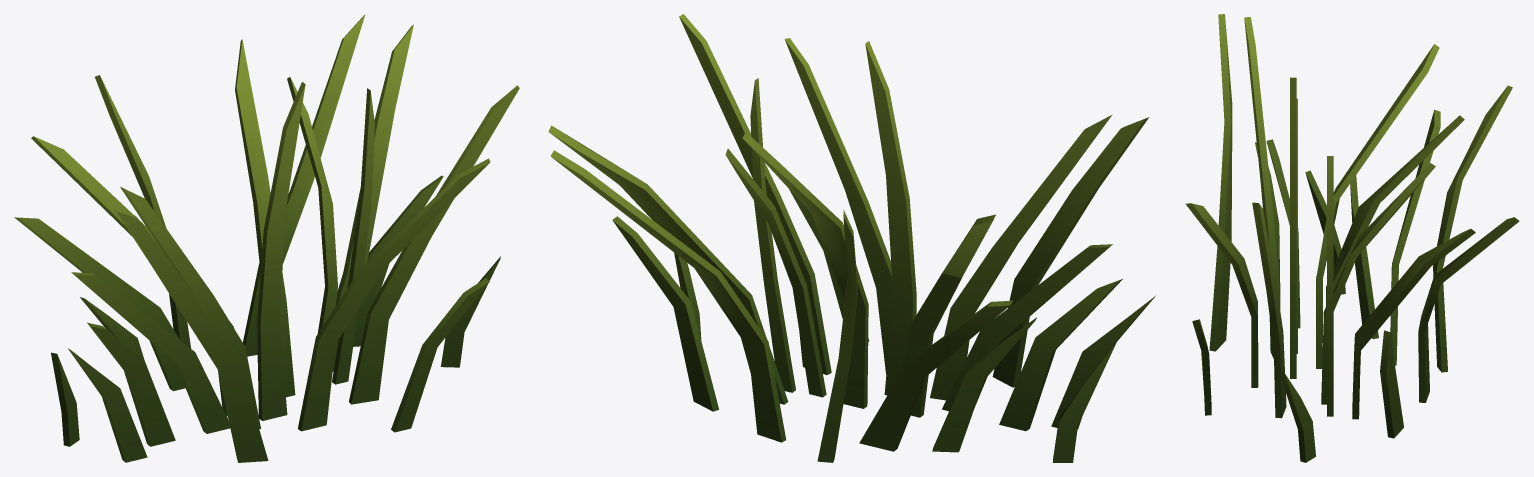
Rendered from Grass_Large_Extruded.glb.
The picture shows the model from 3 angles, left to right: view 1: azimuth 30°, elevation 25°; view 2: azimuth 150°, elevation 25°; view 3: azimuth 270°, elevation 25°; orthographic projection. The views are drawn at different scales.
Parts seen in each view (by area): view 1: Grass_Large_Extruded; view 2: Grass_Large_Extruded; view 3: Grass_Large_Extruded.
Part boxes in pixels (bbox=[...]): Grass_Large_Extruded: bbox=[14, 14, 519, 462]; Grass_Large_Extruded: bbox=[548, 14, 1155, 462]; Grass_Large_Extruded: bbox=[1185, 14, 1519, 462].
Bounding box in the file's own units: 0.7447 × 0.5089 × 0.4973.
Materials: 1 (1 with a texture image).
